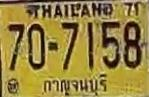0: (27, 23, 44, 69)
1: (87, 22, 93, 69), (87, 22, 93, 68)
5: (101, 20, 120, 68)
7: (61, 21, 78, 69), (8, 23, 24, 69)
8: (123, 20, 141, 68)
KRI: (41, 73, 113, 97)
